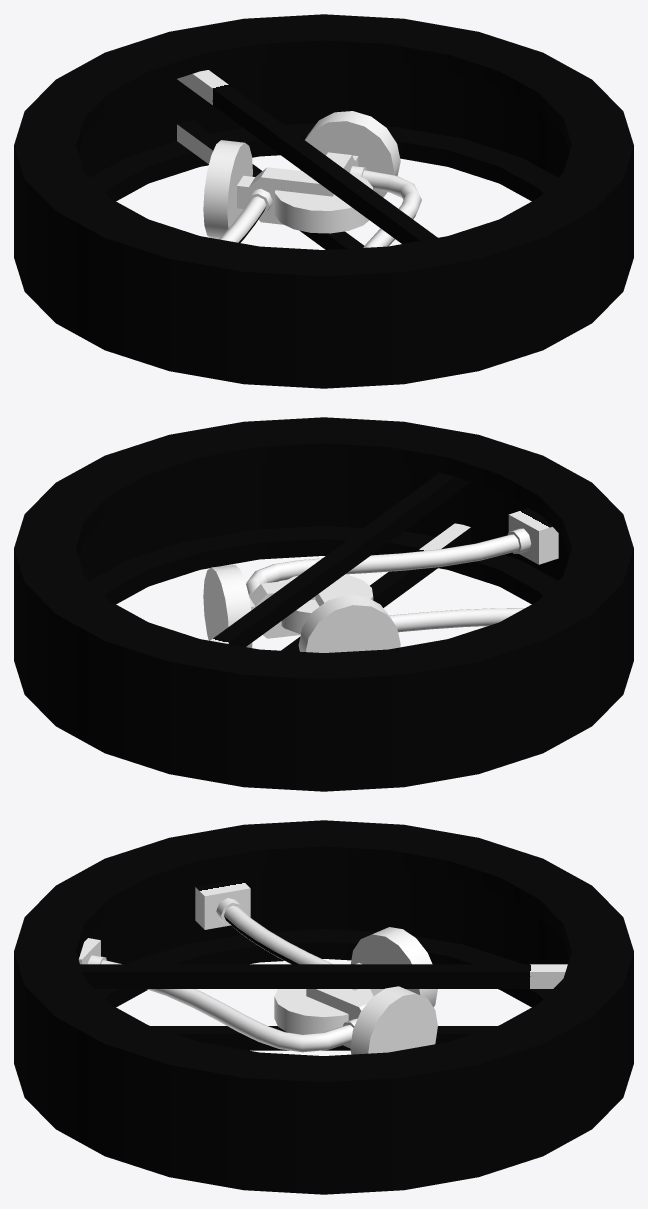
Rendered from hamal_gyro_s1_1.obj.
3 renders of one model, top to bottom at view 1: azimuth 30°, elevation 25°; view 2: azimuth 150°, elevation 25°; view 3: azimuth 270°, elevation 25°, orthographic.
Parts seen in each view (by area): view 1: 2; view 2: 2; view 3: 2.
Boxes of the visible parts, left/top/right/bottom form: 2: left=14, top=14, right=633, bottom=388; 2: left=14, top=417, right=633, bottom=791; 2: left=14, top=820, right=633, bottom=1194.
Size of the model in its own units: 1.25 by 0.25 by 1.25.
